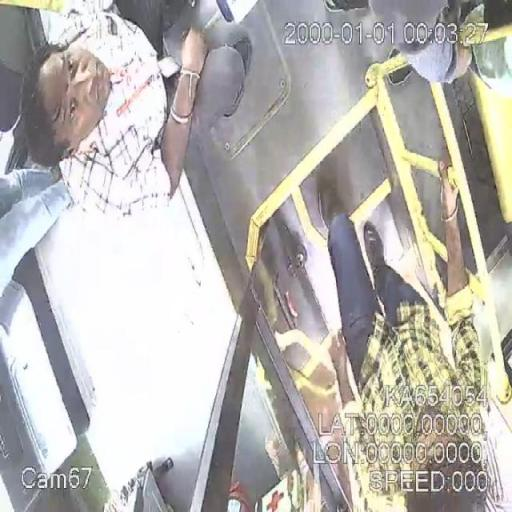persona: (324, 158, 503, 511), (17, 0, 210, 224)
